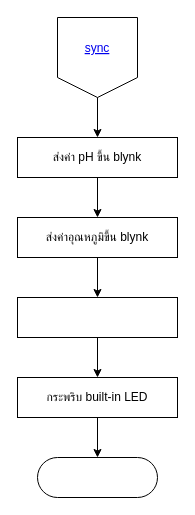
Image size: 195x515. Some labels were removed from this diagram. The box of each missing label's shape, as (x1, y1, x2, y2) in pixels:
จบ: (36, 456, 158, 498)
ส่งค่า percent ขึ้น blynk: (16, 296, 178, 338)
